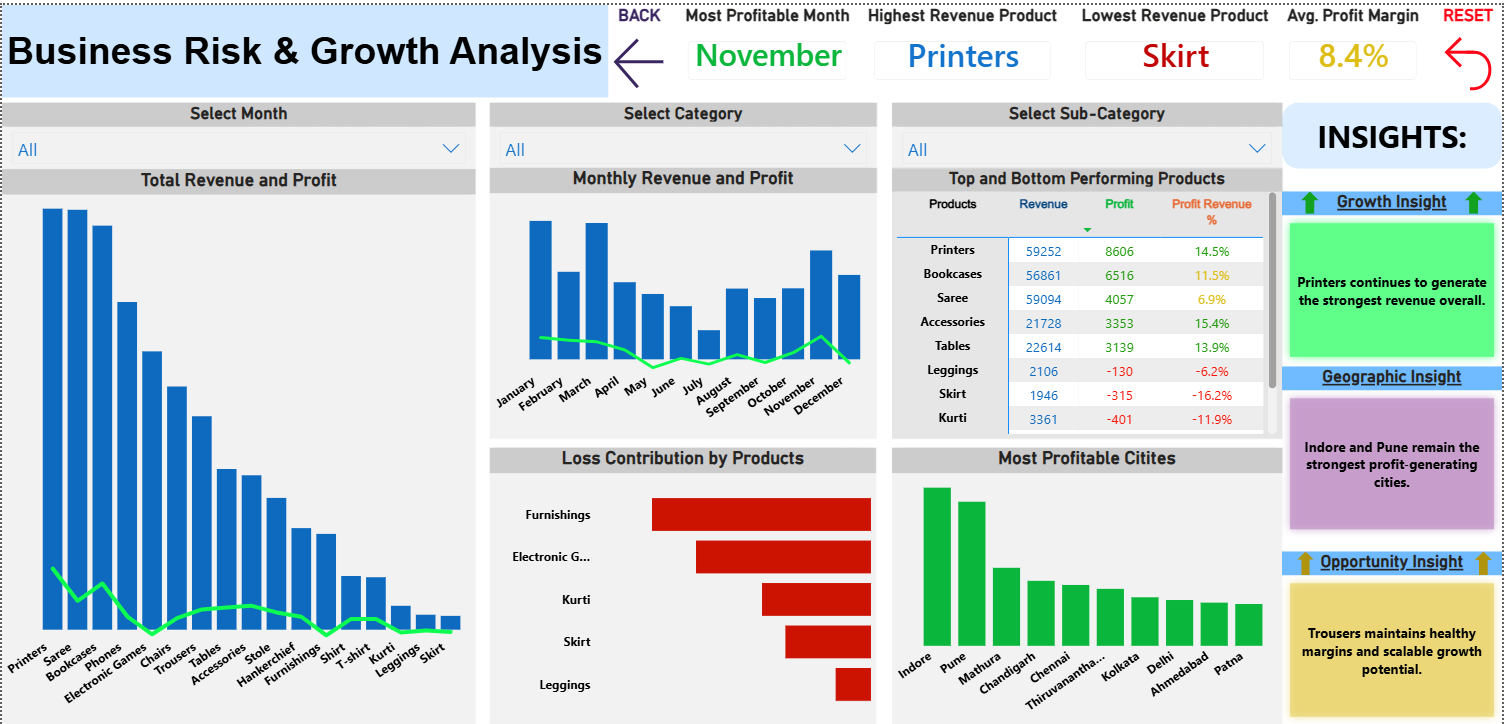

What the dashboard file says about the page in this screenshot:
{"tool":"powerbi","page":{"name":"Business Risk & Growth Analysis","canvas":[1500,720],"ordinal":2},"visuals":[{"type":"shape","box":[0,0,606.2,92.5],"z":0},{"type":"cardVisual","title":"Most Profitable Month","fields":{"Data":["Details.Highest Profit Month"]},"box":[668.8,0,193.8,92.5],"z":1000},{"type":"cardVisual","title":"Highest Revenue Product","fields":{"Data":["Details.Highest Revenue Sub-Category"]},"box":[855,0,211.2,92.5],"z":2000},{"type":"cardVisual","title":"Lowest Revenue Product","fields":{"Data":["Details.Lowest Revenue Product"]},"box":[1066.2,0,213.8,92.5],"z":3000},{"type":"cardVisual","title":"Avg. Profit  Margin","fields":{"Data":["Details.Average profit revenue"]},"box":[1270,0,162.5,92.5],"z":4000},{"type":"lineClusteredColumnComboChart","title":" Total Revenue and Profit","fields":{"Category":["Details.sub_category"],"Y":["Details.Total Revenue"],"Y2":["Details.Total Profit"]},"box":[0,163.8,473.8,556.2],"z":5000},{"type":"lineClusteredColumnComboChart","title":"Monthly Revenue and Profit","fields":{"Category":["Orders.Month"],"Y":["Details.Total Revenue"],"Y2":["Details.Total Profit"]},"box":[487.5,162.5,387.5,271.2],"z":6000},{"type":"clusteredBarChart","title":"Loss Contribution by Products","fields":{"Y":["Details.Total Profit"],"Category":["Details.sub_category"]},"box":[487.8,442.2,386.7,276.7],"z":7000},{"type":"columnChart","title":"Most Profitable Citites","fields":{"Category":["Orders.city"],"Y":["Details.Total Profit"]},"box":[890,442.5,390,277.5],"z":8000},{"type":"pivotTable","title":"Top and Bottom Performing Products","fields":{"Rows":["Details.sub_category"],"Values":["Details.Total Revenue","Details.Total Profit","Details.Average profit revenue"]},"box":[890,162.5,390,271.2],"z":9000},{"type":"slicer","title":"Select Month","fields":{"Values":["Orders.Month"]},"box":[0,97.5,473.8,66.2],"z":10000},{"type":"slicer","title":"Select Sub-Category","fields":{"Values":["Details.sub_category"]},"box":[890,97.5,390,66.2],"z":11000},{"type":"slicer","title":"Select Category","fields":{"Values":["Details.category"]},"box":[487.5,97.5,387.5,65],"z":12000},{"type":"shape","box":[1280,97.5,220,66.2],"z":13000},{"type":"shape","title":"Growth Insight","box":[1280,186.2,220,173.8],"z":14000},{"type":"shape","title":"Geographic Insight","box":[1280,361.2,220,171.2],"z":15000},{"type":"shape","title":"Opportunity Insight","box":[1280,546.2,220,173.8],"z":16000},{"type":"shape","box":[1462.8,186.1,18.3,22.8],"z":16001},{"type":"shape","box":[1298.9,186.1,18.3,22.8],"z":16002},{"type":"shape","box":[1295,546.1,17,24],"z":16003},{"type":"shape","box":[1472.2,546.1,17.8,24],"z":16004},{"type":"actionButton","title":"RESET","box":[1432.5,0,67.5,92.5],"z":16005},{"type":"actionButton","title":"BACK","box":[606.2,0,62.5,92.5],"z":16006}]}

Visuals, with their boxes in screenshot pixels (x1, y1, x2, y2), scaled from the page's 1500x720 canvas onto the 1504x724 screenshot:
shape: box(0, 0, 608, 93)
"Most Profitable Month" cardVisual: box(671, 0, 865, 93)
"Highest Revenue Product" cardVisual: box(857, 0, 1069, 93)
"Lowest Revenue Product" cardVisual: box(1069, 0, 1283, 93)
"Avg. Profit  Margin" cardVisual: box(1273, 0, 1436, 93)
" Total Revenue and Profit" lineClusteredColumnComboChart: box(0, 165, 475, 723)
"Monthly Revenue and Profit" lineClusteredColumnComboChart: box(489, 163, 877, 436)
"Loss Contribution by Products" clusteredBarChart: box(489, 445, 877, 723)
"Most Profitable Citites" columnChart: box(892, 445, 1283, 723)
"Top and Bottom Performing Products" pivotTable: box(892, 163, 1283, 436)
"Select Month" slicer: box(0, 98, 475, 165)
"Select Sub-Category" slicer: box(892, 98, 1283, 165)
"Select Category" slicer: box(489, 98, 877, 163)
shape: box(1283, 98, 1503, 165)
"Growth Insight" shape: box(1283, 187, 1503, 362)
"Geographic Insight" shape: box(1283, 363, 1503, 535)
"Opportunity Insight" shape: box(1283, 549, 1503, 723)
shape: box(1467, 187, 1485, 210)
shape: box(1302, 187, 1321, 210)
shape: box(1298, 549, 1315, 573)
shape: box(1476, 549, 1494, 573)
"RESET" actionButton: box(1436, 0, 1503, 93)
"BACK" actionButton: box(608, 0, 670, 93)
